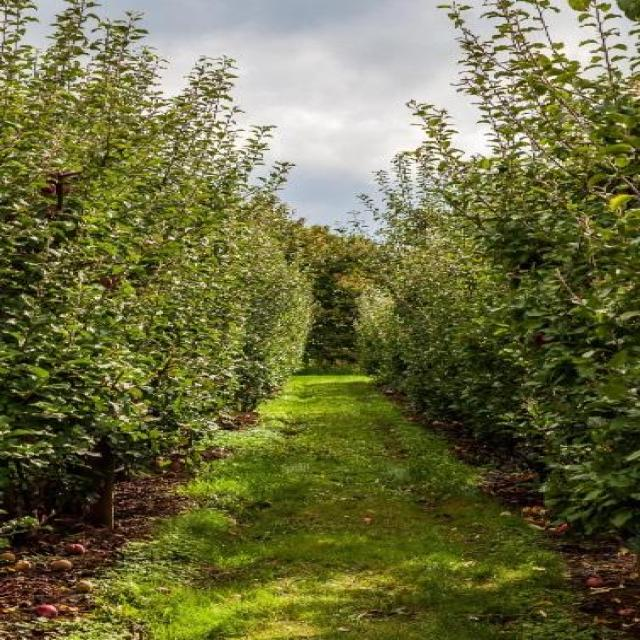row: (67, 369, 612, 640)
